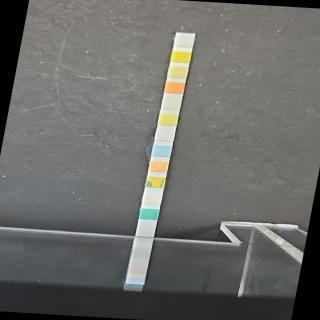mark: (140, 208, 158, 220), (164, 96, 180, 109), (165, 82, 182, 94), (173, 51, 190, 63), (154, 145, 170, 157), (157, 128, 173, 140), (147, 176, 164, 187), (160, 114, 177, 125), (176, 36, 193, 47), (143, 192, 161, 202), (169, 67, 187, 77), (151, 160, 167, 171)
